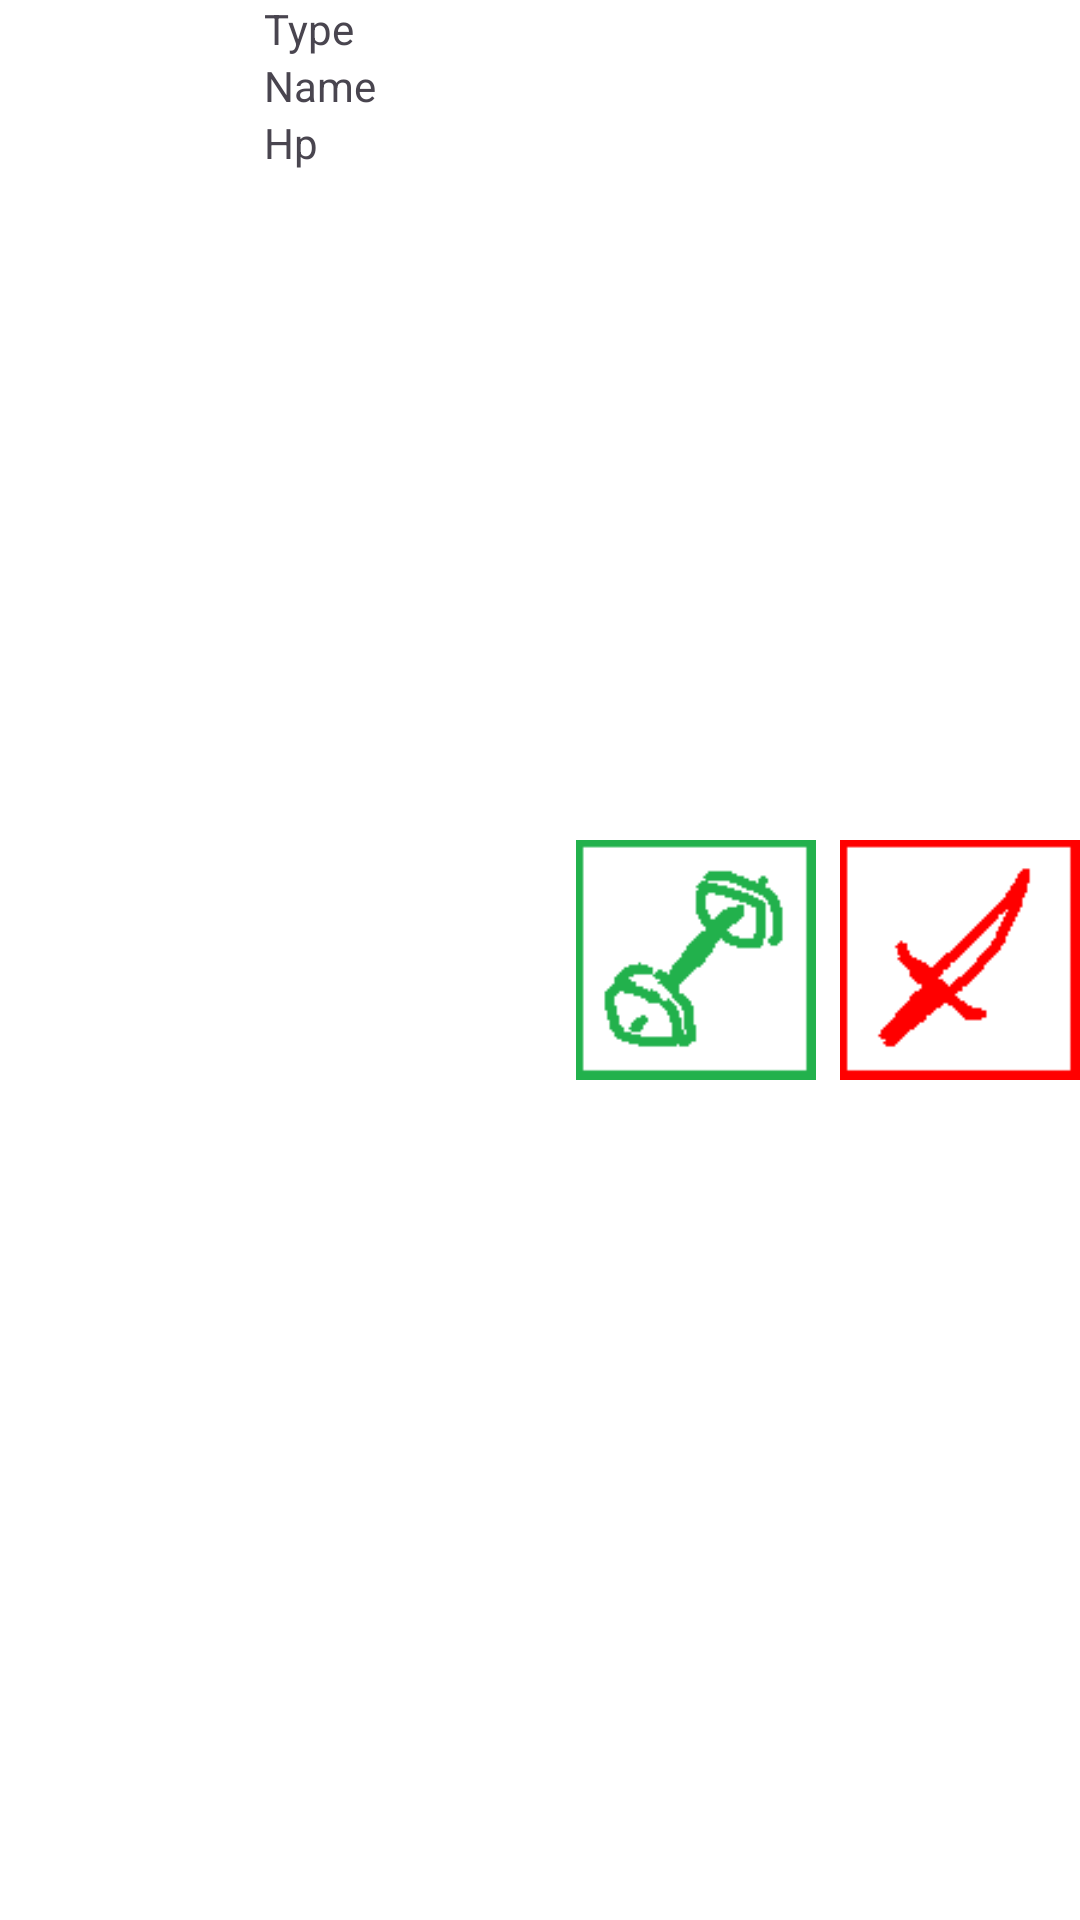

Where icons sit on this 1080 × 1920 app screen, as (x1, y1, x2, y2):
battle: (840, 840, 1080, 1080)
training: (576, 840, 816, 1080)
